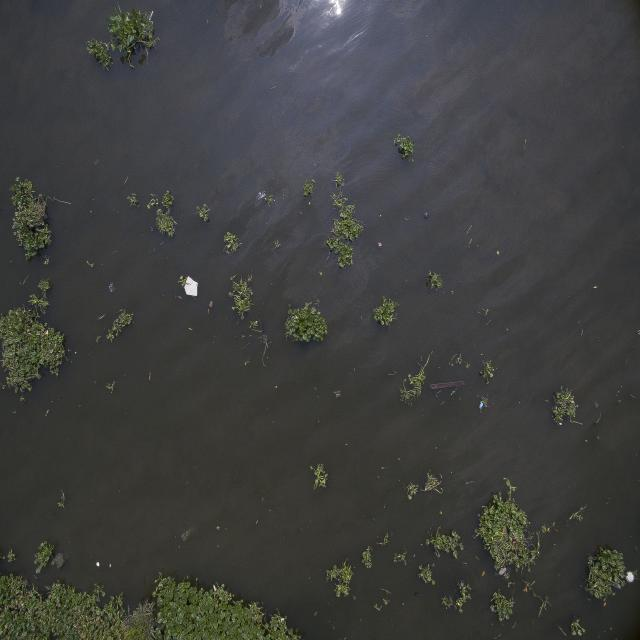debris: (428, 376, 466, 394), (182, 274, 198, 298), (626, 565, 636, 582), (95, 558, 102, 568), (377, 240, 384, 250)
plastic: (495, 564, 510, 577), (107, 280, 119, 296), (476, 395, 486, 410), (422, 208, 430, 220), (413, 588, 422, 598)
